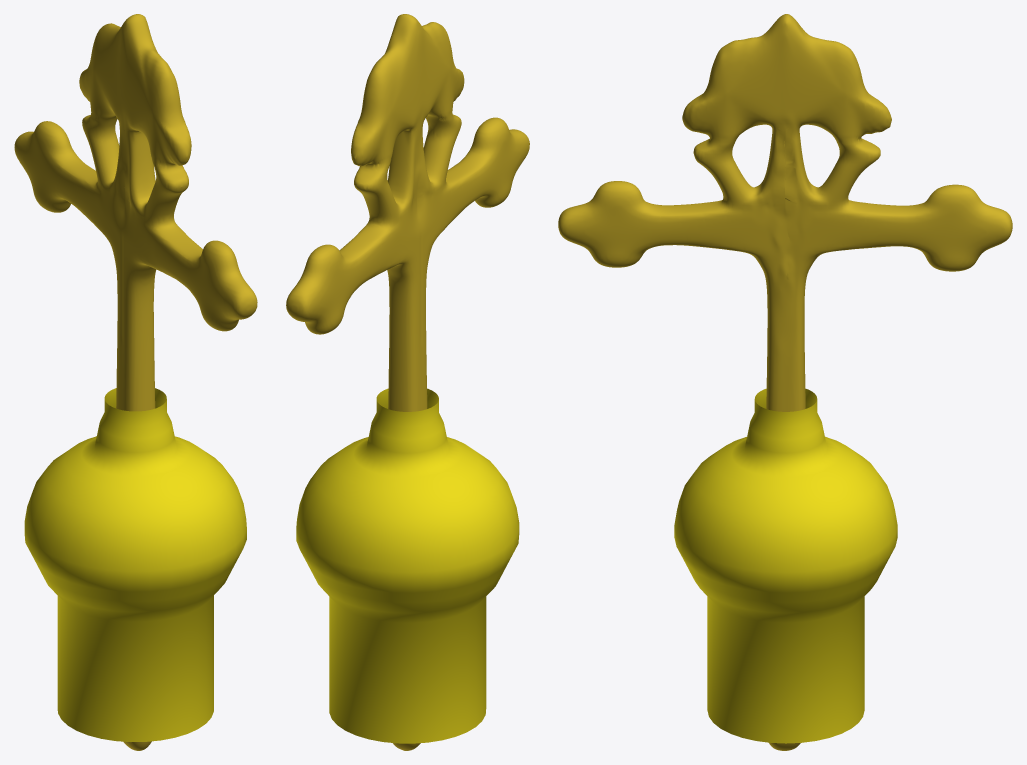
3 renders of one model, left to right at view 1: azimuth 30°, elevation 25°; view 2: azimuth 150°, elevation 25°; view 3: azimuth 270°, elevation 25°, orthographic.
Visible parts, largest first — view 1: Circle.029, Cube.017; view 2: Circle.029, Cube.017; view 3: Circle.029, Cube.017.
Boxes of the visible parts, x1=… form: Circle.029: x1=24, y1=388, x2=246, y2=741; Cube.017: x1=14, y1=14, x2=257, y2=750; Circle.029: x1=296, y1=388, x2=519, y2=743; Cube.017: x1=286, y1=14, x2=529, y2=750; Circle.029: x1=674, y1=388, x2=897, y2=743; Cube.017: x1=558, y1=14, x2=1012, y2=750.
Bounding box in the file's own units: 13.11 × 47.62 × 26.67.
